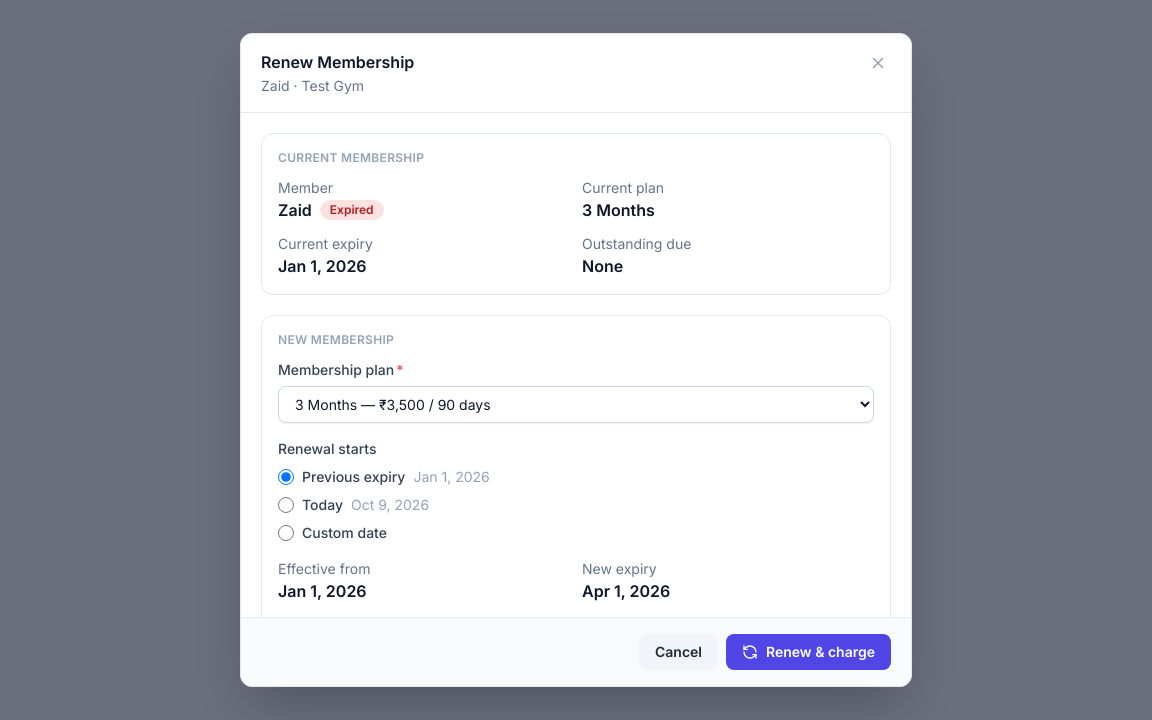
Scenario: RenewalModal › disables the submit button while a renewal is saving (duplicate-submit guard)
Select "3 Months — ₹3,500 / 90 days" in the dropdown at [576, 404], box [278,386,874,423]
(page scrolled)
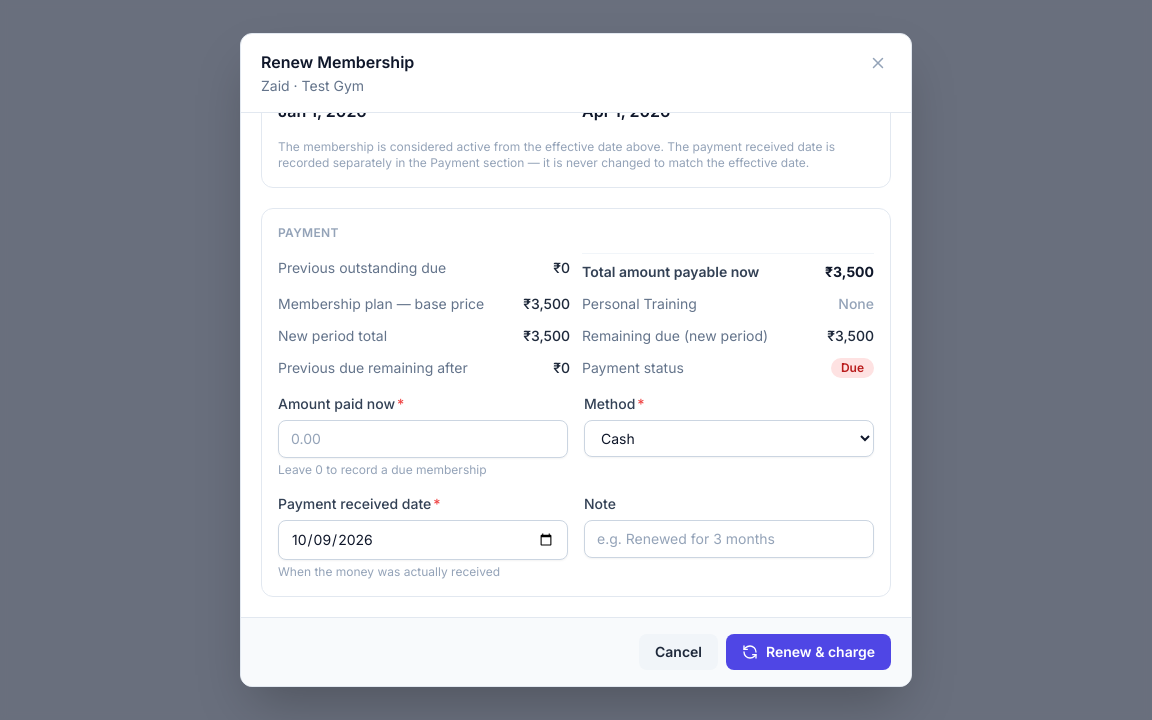
Type "2000" into the number field with placeholder "0.00" at [423, 439], box [278,420,568,458]
(page scrolled)
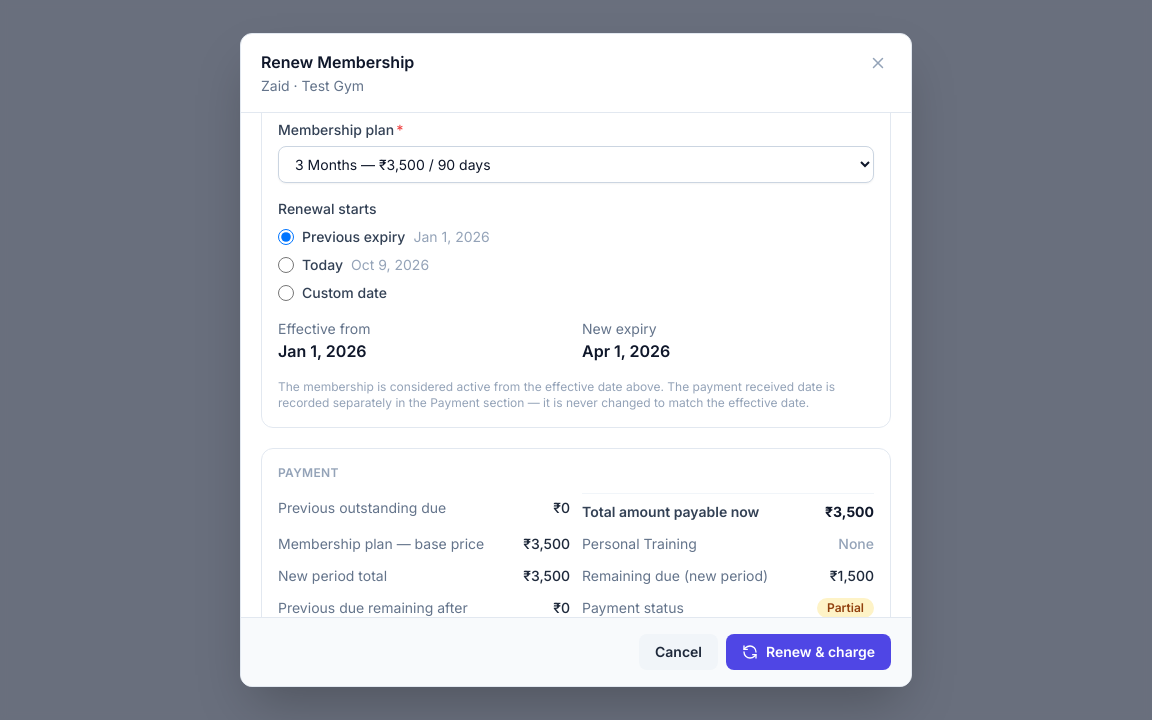
Submit the form named "Renewal form"
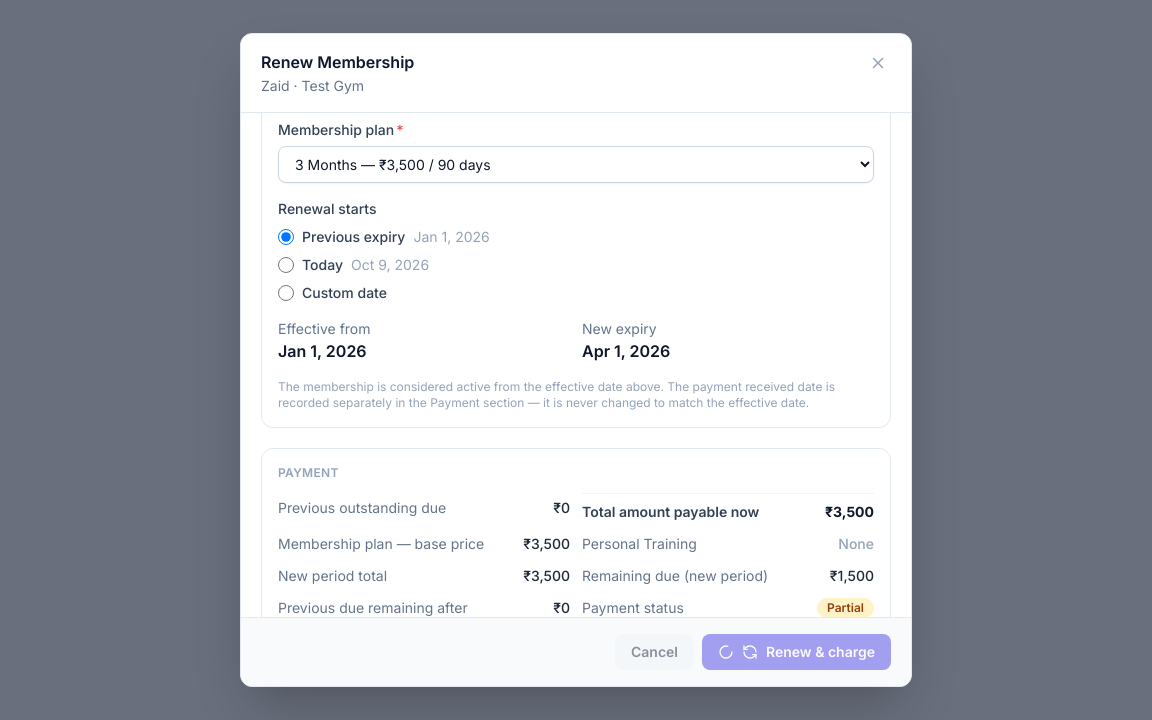
Expected: the button "Renew & charge" is disabled, [702,634,891,670]
